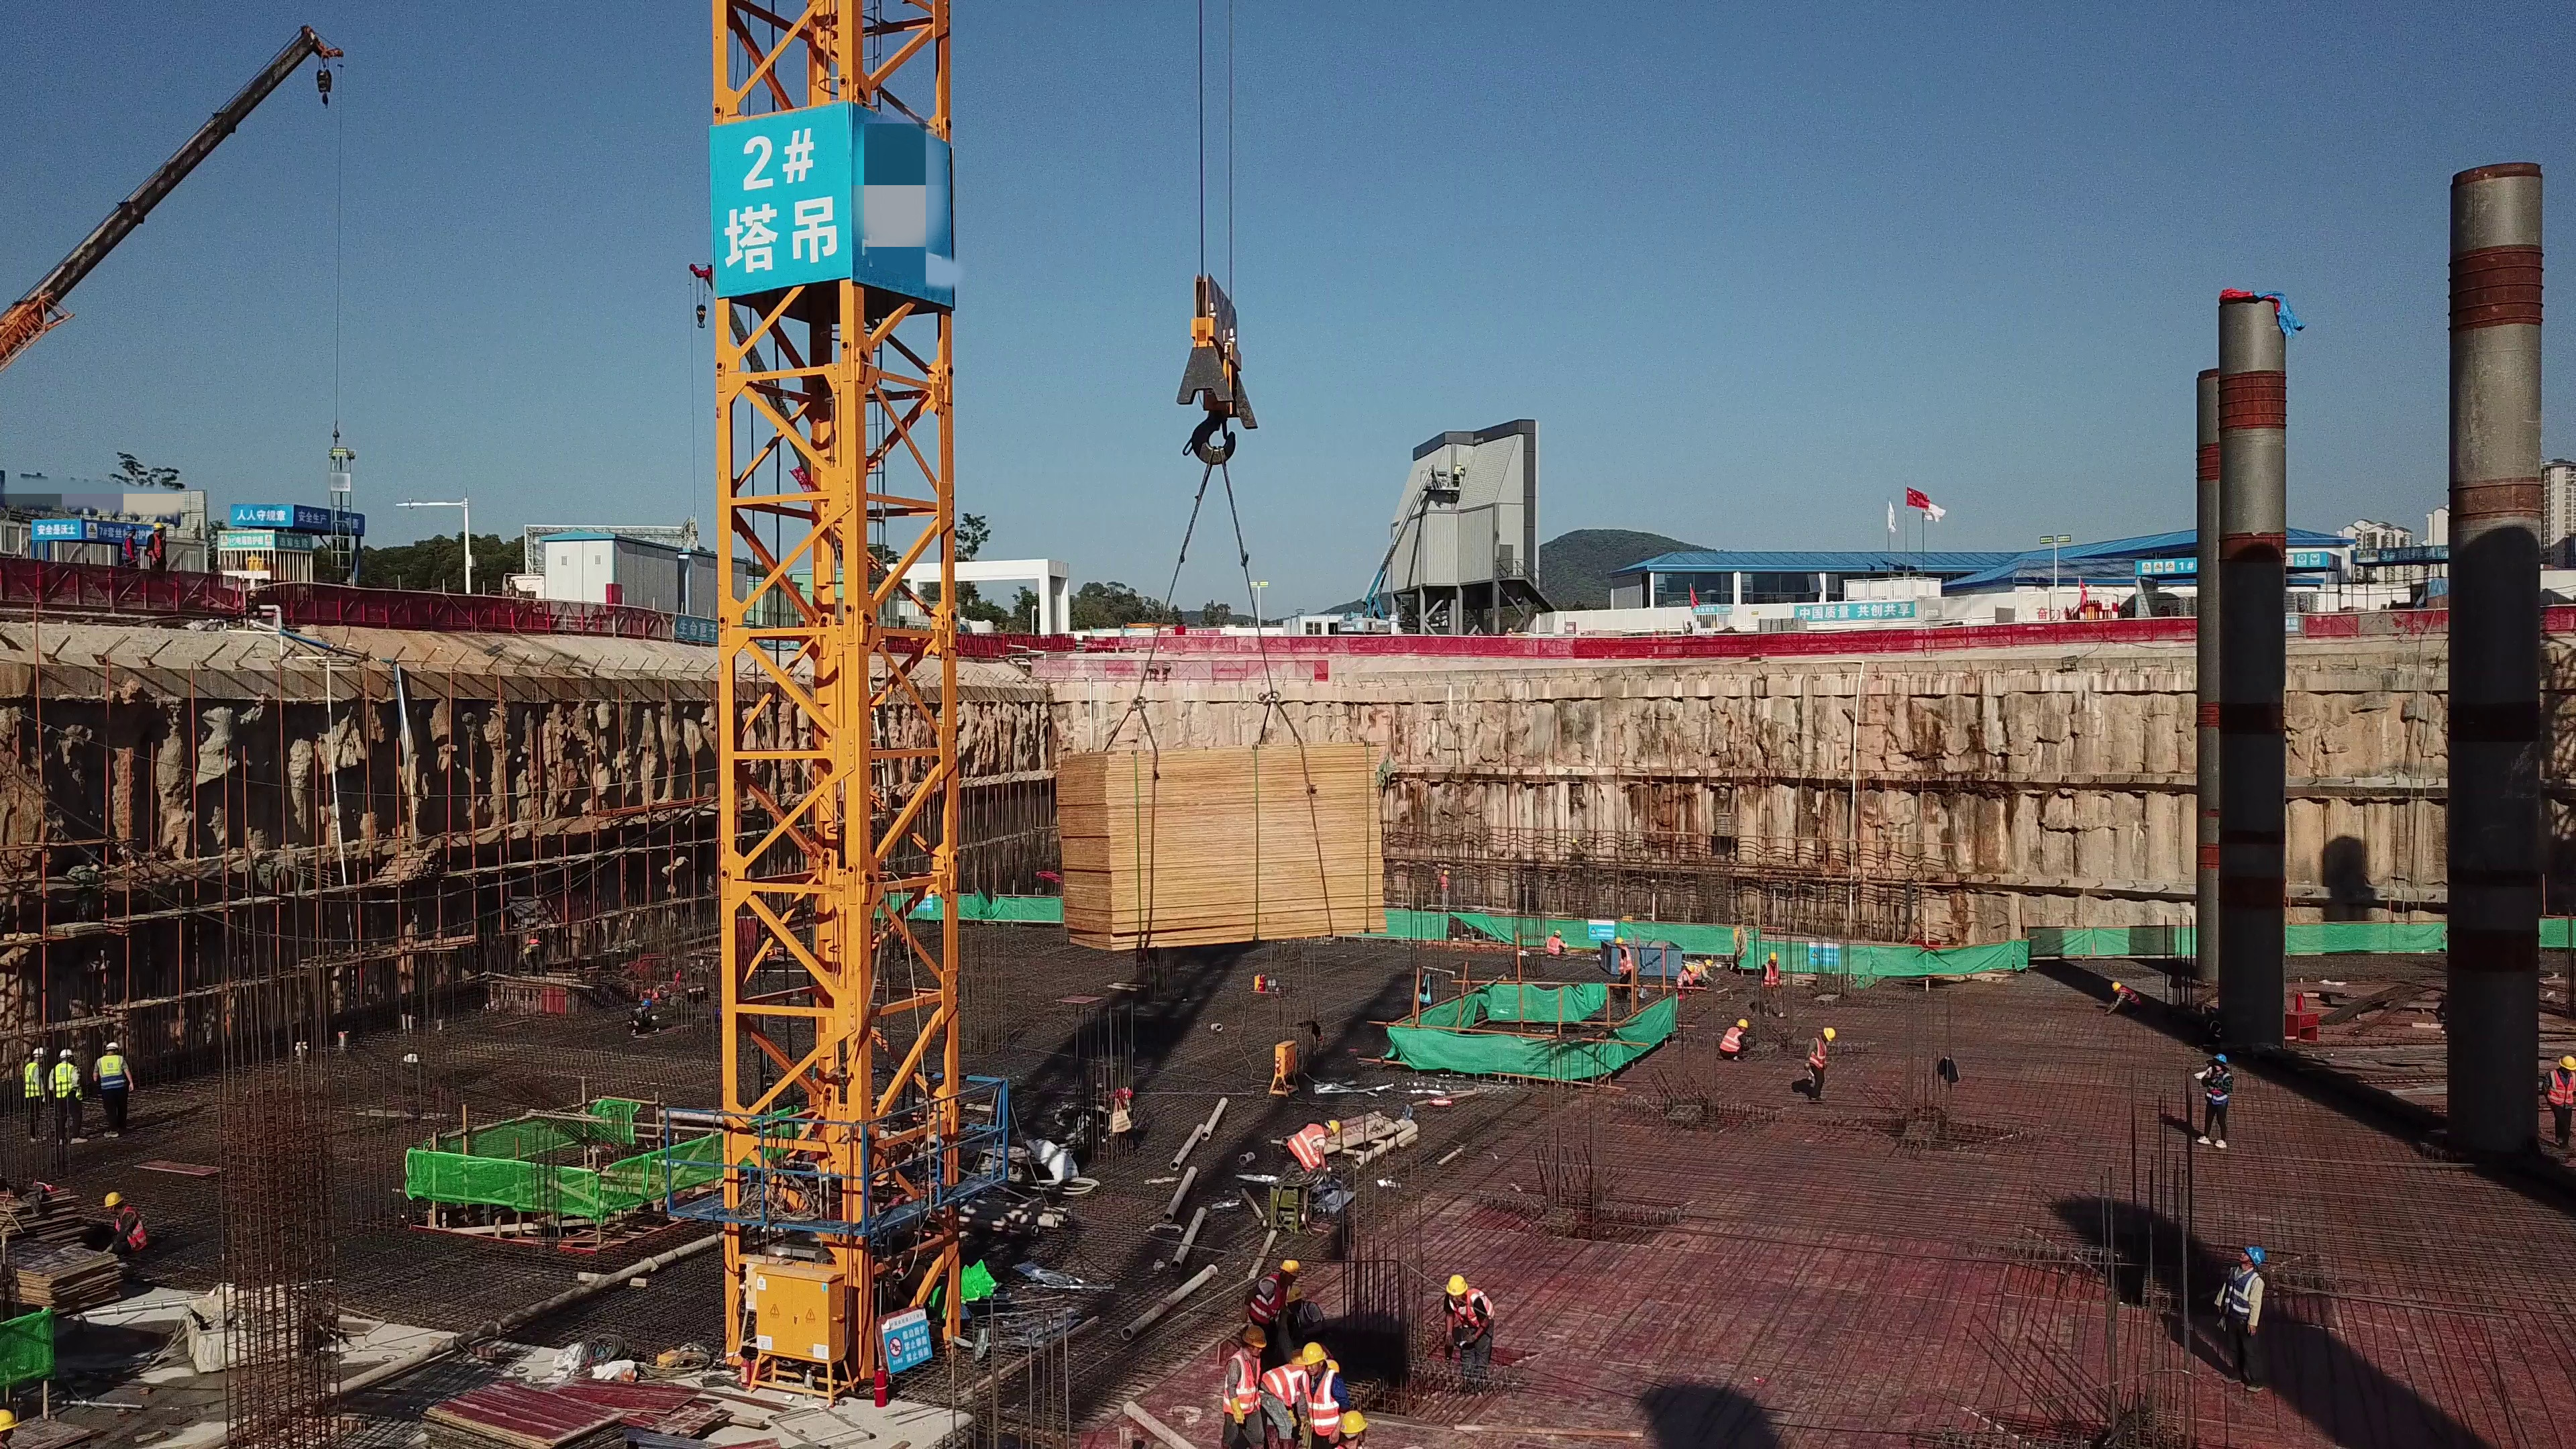helmet: (1301, 1342, 1327, 1364), (1342, 1409, 1366, 1430), (1244, 1324, 1266, 1348), (2244, 1244, 2265, 1266), (1, 1407, 20, 1429), (1278, 1256, 1301, 1276), (1445, 1278, 1468, 1295), (103, 1192, 125, 1206), (1328, 1116, 1345, 1134), (1288, 1286, 1307, 1302), (1326, 1356, 1344, 1373), (57, 1048, 74, 1060), (2214, 1053, 2229, 1065), (1823, 1027, 1835, 1043), (103, 1041, 120, 1050), (1735, 1019, 1750, 1029), (32, 1049, 47, 1059), (1552, 928, 1562, 937), (1685, 964, 1695, 975), (152, 520, 164, 529), (2110, 981, 2121, 989), (123, 523, 136, 531), (640, 1000, 655, 1006), (1768, 951, 1778, 959), (1705, 959, 1713, 967), (1442, 869, 1450, 875), (1615, 937, 1624, 943)
person: (2218, 1236, 2292, 1383), (1439, 1271, 1503, 1381), (1222, 1324, 1269, 1449), (1298, 1341, 1346, 1449), (2195, 1049, 2243, 1154), (92, 1041, 138, 1141), (1282, 1116, 1344, 1191), (1246, 1251, 1302, 1327), (48, 1042, 89, 1147), (99, 1187, 152, 1262), (2538, 1050, 2576, 1149), (21, 1041, 50, 1142), (1801, 1023, 1837, 1104), (1758, 953, 1787, 1021), (1714, 1018, 1754, 1063), (2188, 1006, 2229, 1050), (2101, 980, 2145, 1020), (1612, 936, 1634, 1008), (621, 996, 655, 1039), (1337, 1407, 1368, 1449), (117, 520, 140, 573), (146, 520, 168, 571), (522, 934, 549, 973), (1544, 924, 1572, 962), (1436, 867, 1456, 914), (1696, 957, 1720, 989), (1676, 962, 1696, 994), (1682, 619, 1694, 635)
vest: (1303, 1373, 1338, 1433), (2221, 1266, 2258, 1322), (1230, 1350, 1260, 1408), (1251, 1275, 1287, 1320), (1448, 1297, 1495, 1326), (1292, 1123, 1320, 1168), (1271, 1358, 1303, 1398), (2204, 1069, 2233, 1107), (119, 1208, 146, 1250), (2546, 1067, 2567, 1112), (97, 1055, 123, 1087), (55, 1063, 77, 1095), (1807, 1037, 1827, 1071), (1719, 1027, 1743, 1057), (24, 1064, 44, 1097), (148, 531, 164, 557), (2121, 986, 2142, 1006), (1617, 947, 1633, 973), (122, 538, 138, 563), (1764, 963, 1780, 987), (628, 1008, 647, 1022), (1547, 937, 1561, 956), (1676, 969, 1685, 988), (526, 939, 541, 950), (1439, 877, 1451, 889)
